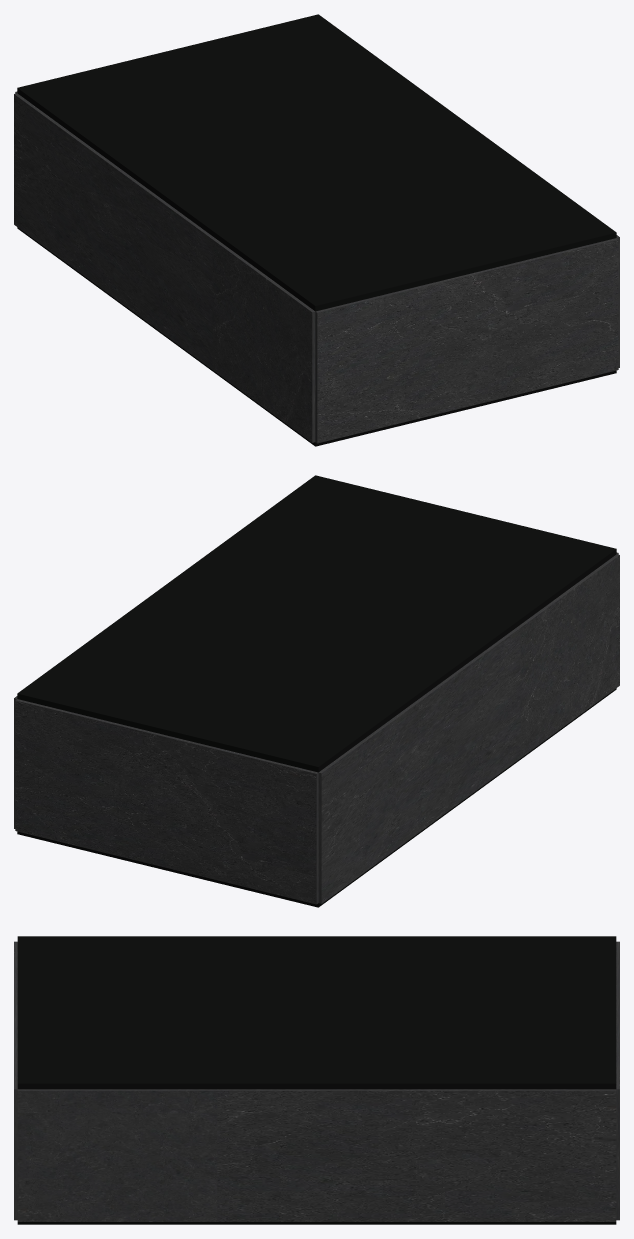
Rendered from danny-gallery-360.glb.
3 views of the same model, one above another, from view 1: azimuth 30°, elevation 25°; view 2: azimuth 150°, elevation 25°; view 3: azimuth 270°, elevation 25° (orthographic).
Visible parts, largest first — view 1: ARCH_Ceiling, DEMO_Wall, DEMO_Ceiling, ARCH_Wall, DEMO_Floor; view 2: ARCH_Wall, ARCH_Ceiling, DEMO_Ceiling, DEMO_Wall, ARCH_Floor; view 3: ARCH_Ceiling, ARCH_Wall, DEMO_Ceiling, DEMO_Wall, ARCH_Floor, DEMO_Floor.
Boxes of the visible parts, x1,y1,x2,y2 form: ARCH_Ceiling: [17, 14, 516, 238]; DEMO_Wall: [212, 235, 619, 443]; DEMO_Ceiling: [216, 160, 616, 311]; ARCH_Wall: [14, 91, 215, 369]; DEMO_Floor: [216, 370, 616, 446]; ARCH_Wall: [14, 627, 520, 904]; ARCH_Ceiling: [17, 548, 517, 772]; DEMO_Ceiling: [216, 475, 616, 626]; DEMO_Wall: [518, 552, 619, 757]; ARCH_Floor: [17, 761, 517, 907]; ARCH_Ceiling: [217, 936, 616, 1089]; ARCH_Wall: [217, 941, 619, 1221]; DEMO_Ceiling: [17, 936, 217, 1089]; DEMO_Wall: [14, 941, 217, 1221]; ARCH_Floor: [217, 1222, 616, 1224]; DEMO_Floor: [17, 1222, 217, 1224].
Bounding box in the file's own units: 14.3 × 6.24 × 24.3.
36 materials, 20 textured.
